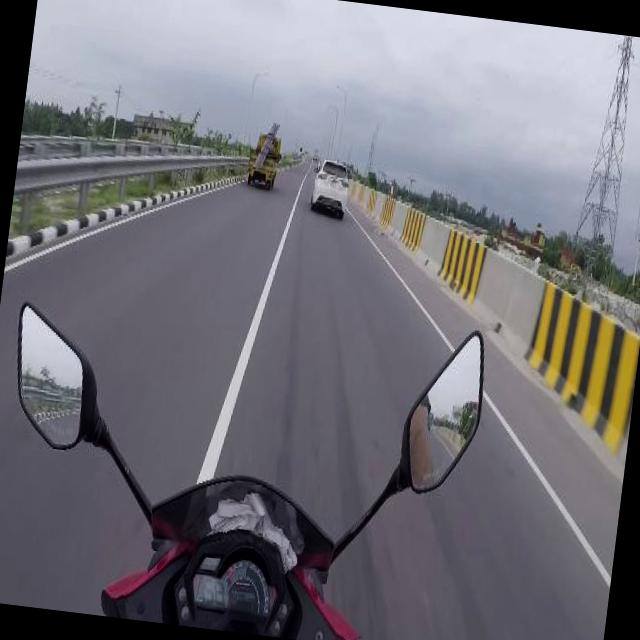car: (307, 158, 353, 220)
motorcycle: (0, 260, 493, 640)
truck: (244, 130, 284, 192)
